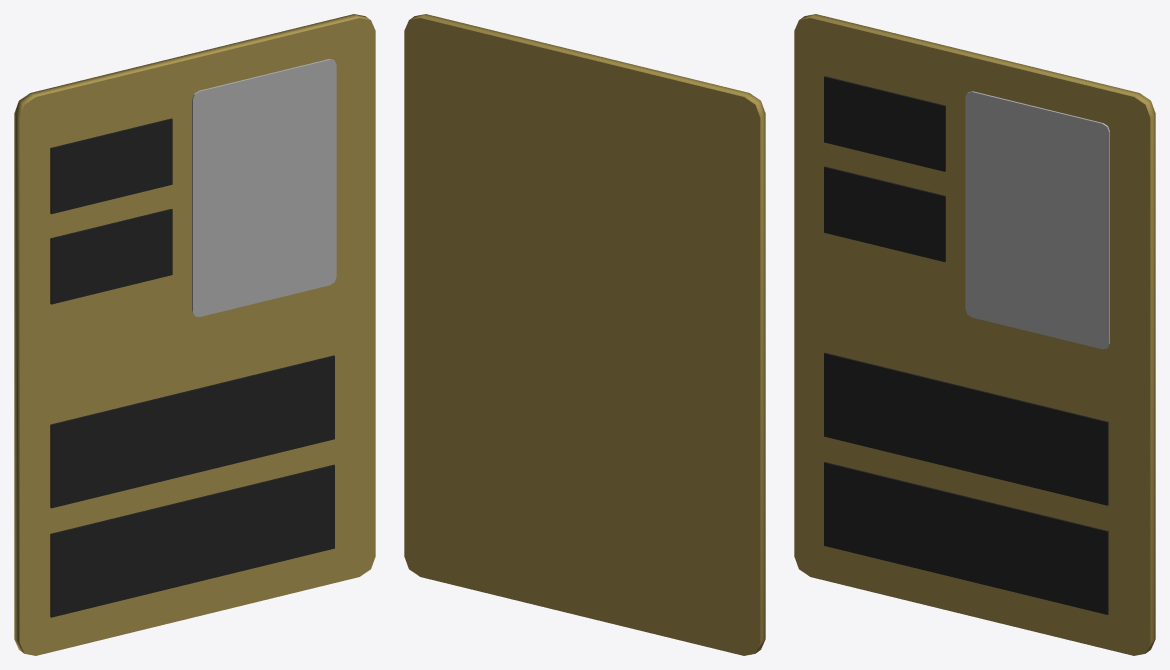
Rendered from IdentityCard.fbx.
3 views of the same model, side by side, from view 1: azimuth 30°, elevation 25°; view 2: azimuth 150°, elevation 25°; view 3: azimuth 330°, elevation 25° (orthographic).
Visible parts, largest first — view 1: Identity Card; view 2: Identity Card; view 3: Identity Card.
Part boxes in pixels (<box>): Identity Card: <box>14,14,375,655</box>; Identity Card: <box>404,14,765,655</box>; Identity Card: <box>794,14,1155,655</box>.
Size of the model in its own units: 2 by 3 by 0.0639.
